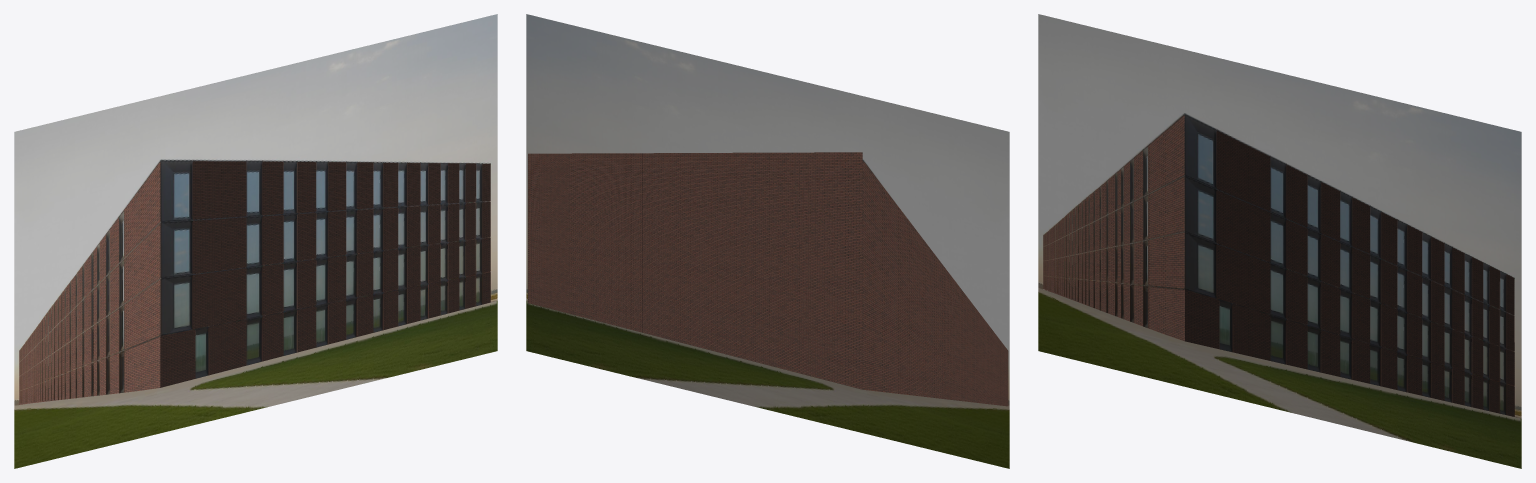
The model's file is place-hastane.glb.
The picture shows the model from 3 angles, left to right: view 1: azimuth 30°, elevation 25°; view 2: azimuth 150°, elevation 25°; view 3: azimuth 330°, elevation 25°; orthographic projection.
Parts seen in each view (by area): view 1: hastane01, hastane01.001, hastane01.002; view 2: hastane01, hastane01.001; view 3: hastane01, hastane01.001, hastane01.002.
Part boxes in pixels (x1,y1,x2,y2): hastane01: (14,14,497,404); hastane01.001: (14,301,497,468); hastane01.002: (14,221,160,391); hastane01: (526,14,1009,406); hastane01.001: (526,301,1009,468); hastane01: (1038,14,1521,418); hastane01.001: (1038,288,1521,468); hastane01.002: (1038,175,1184,274).
Bounding box in the file's own units: 1.5 × 1 × 0.00327.
4 materials, 3 textured.
